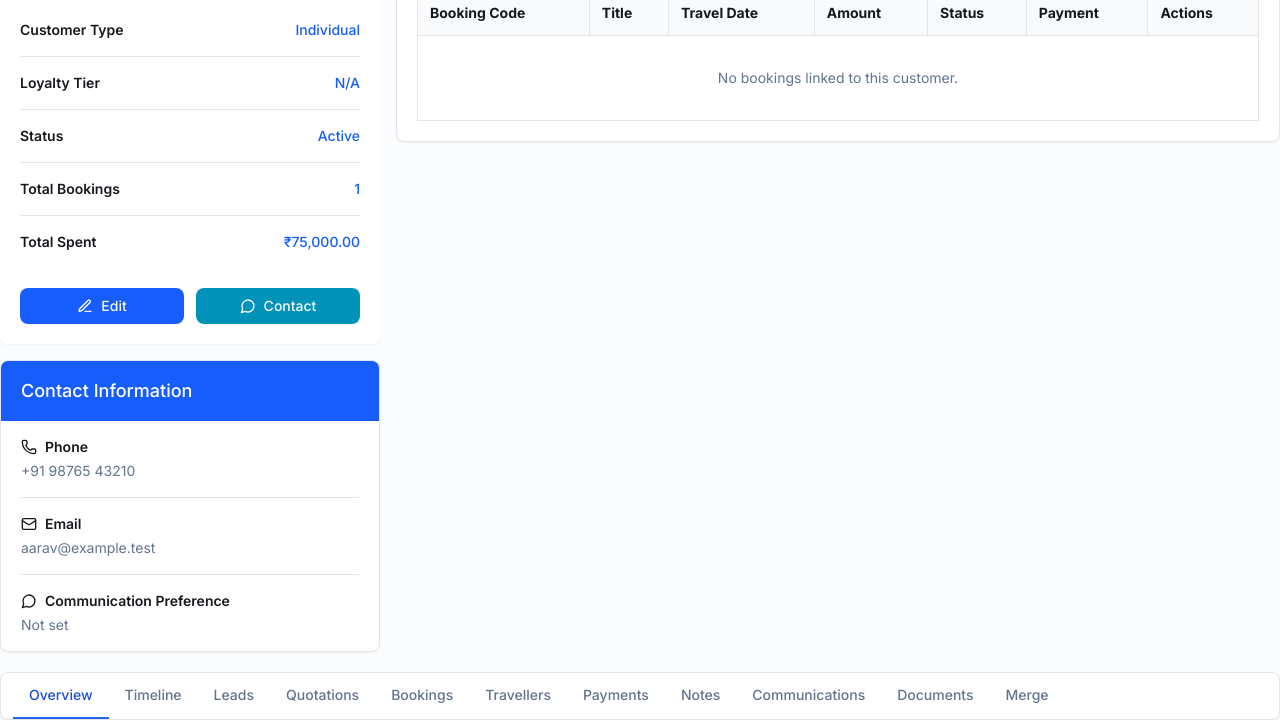
Test: Phase 10 customer pages › renders the workspace and switches to the unified timeline
(page scrolled)
Click the button "Timeline" at (153, 696), box [108,673,198,719]
(page scrolled)
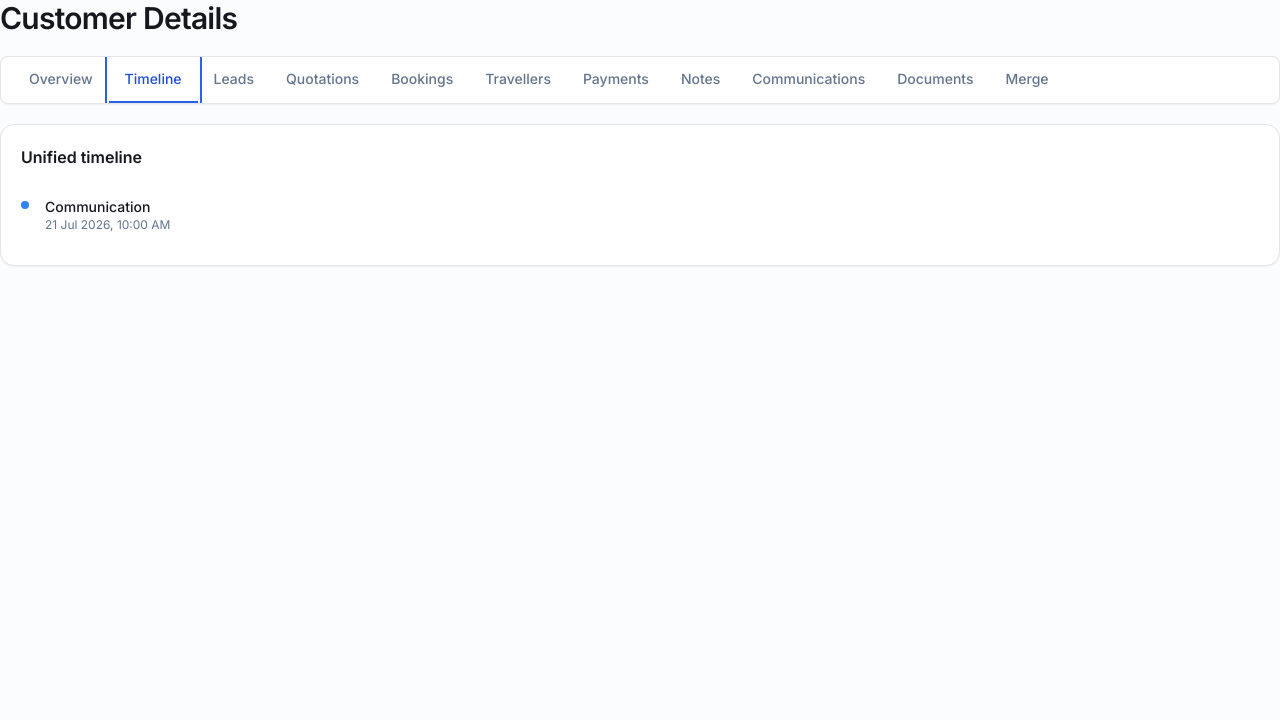
expect the text "Communication" is shown: met, box [45,198,150,215]
Click the button "Travellers" at (518, 80), box [469,57,567,103]
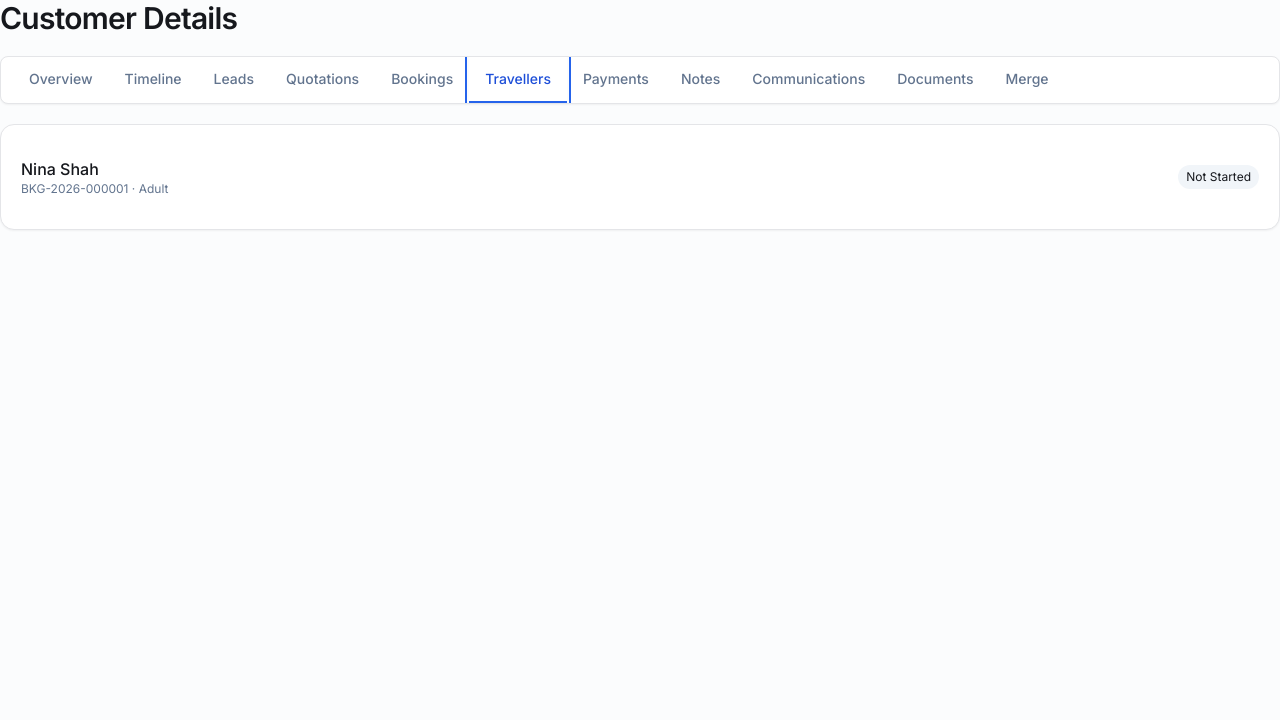
expect the text "Nina Shah" is shown: met, box [21,159,99,179]
Click the button "Payments" at (616, 80), box [567,57,665,103]
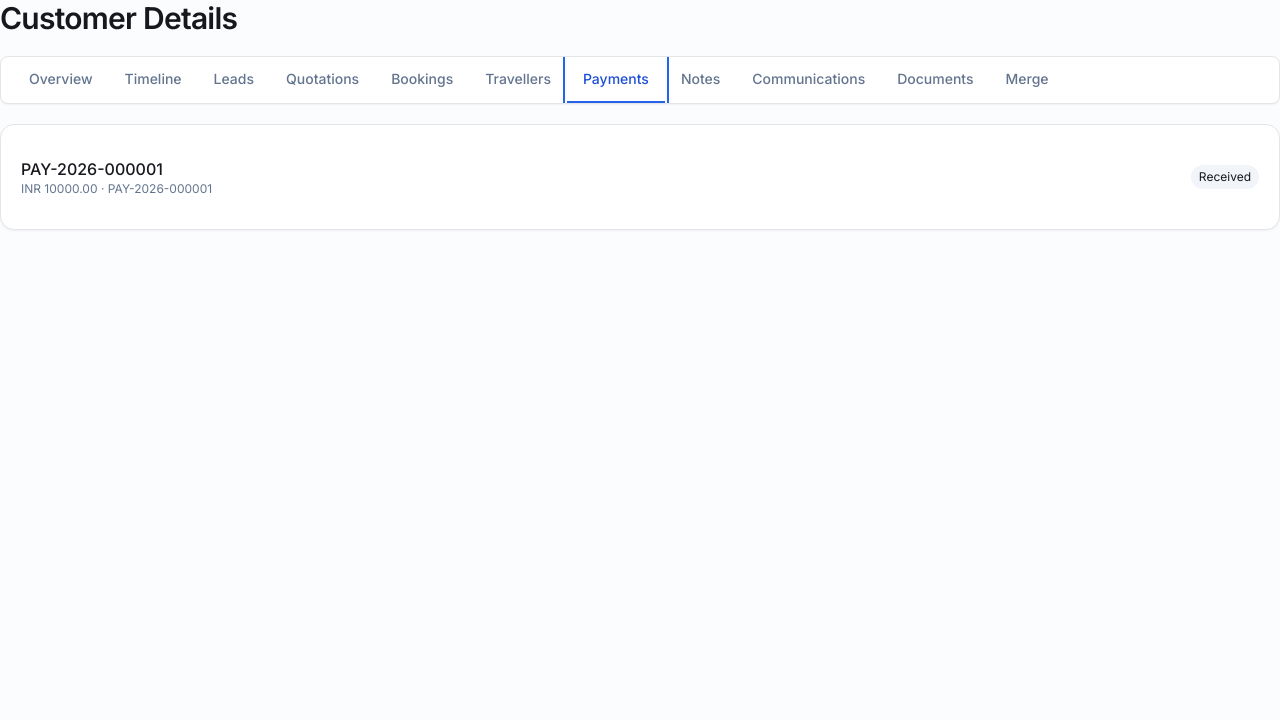
expect the text "INR 10000.00 · PAY-2026-000001" is shown: met, box [21,181,212,197]
